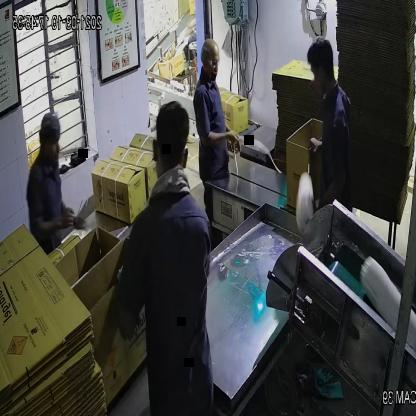no_glove: (196, 120, 244, 165), (41, 192, 80, 247), (312, 160, 350, 210)
